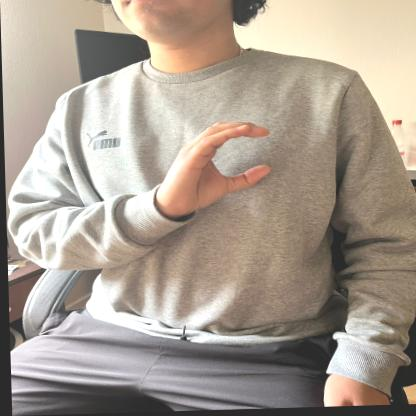C: (153, 119, 281, 219)
